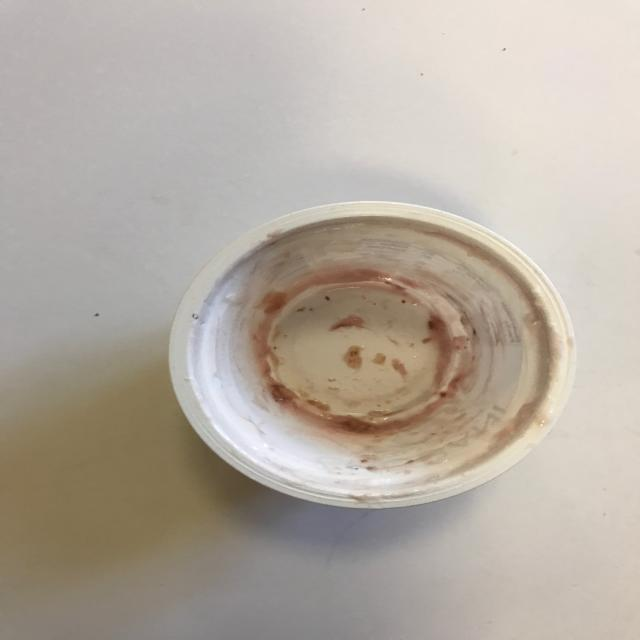Trash: (168, 200, 576, 510)
